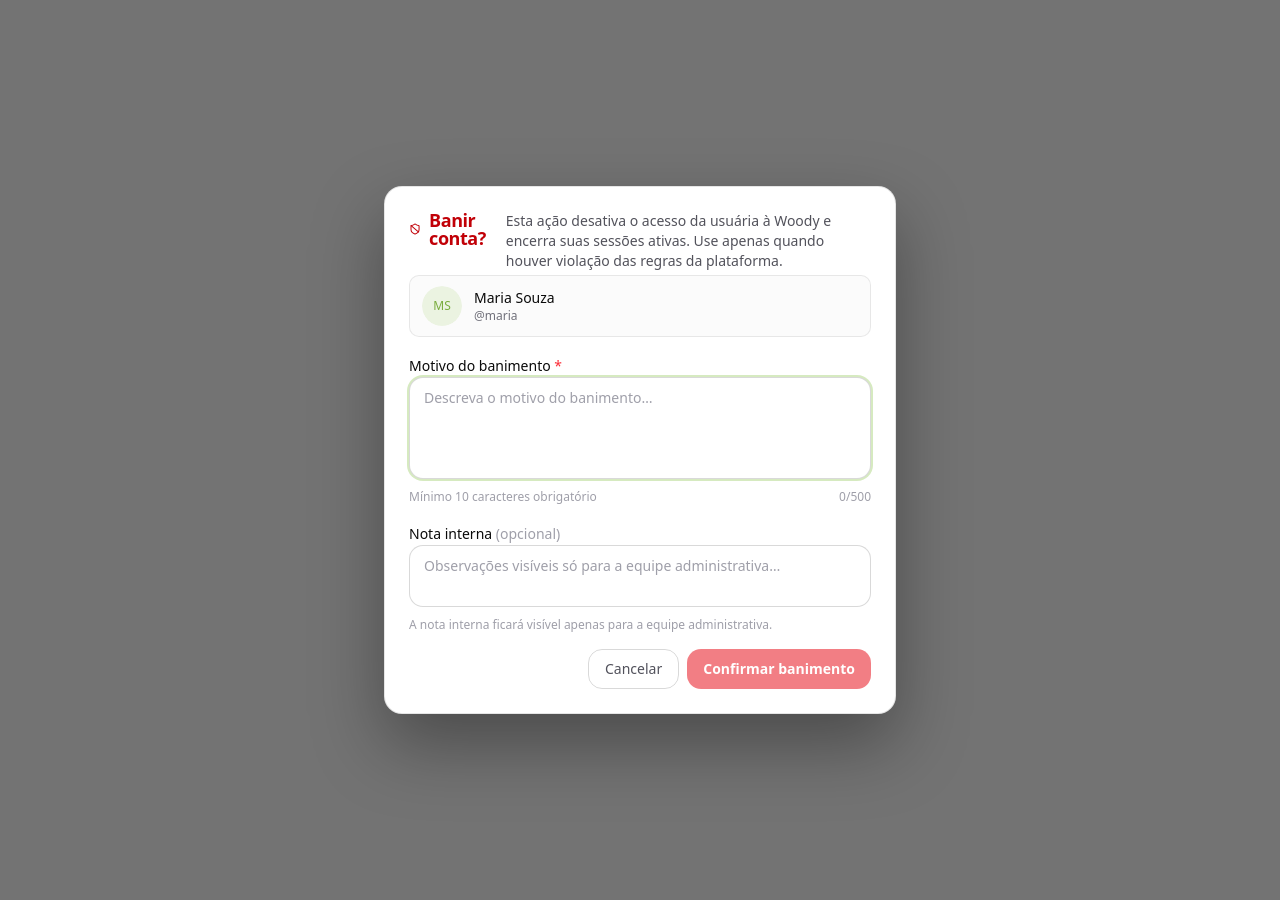
it: BanReportAuthorDialog › mantém modal aberto e exibe erro em falha
The width and height of the screenshot is (1280, 900).
Type "Violação grave das regras" into the text box labelled "Motivo do banimento *" at (640, 428), box [409,377,871,479]
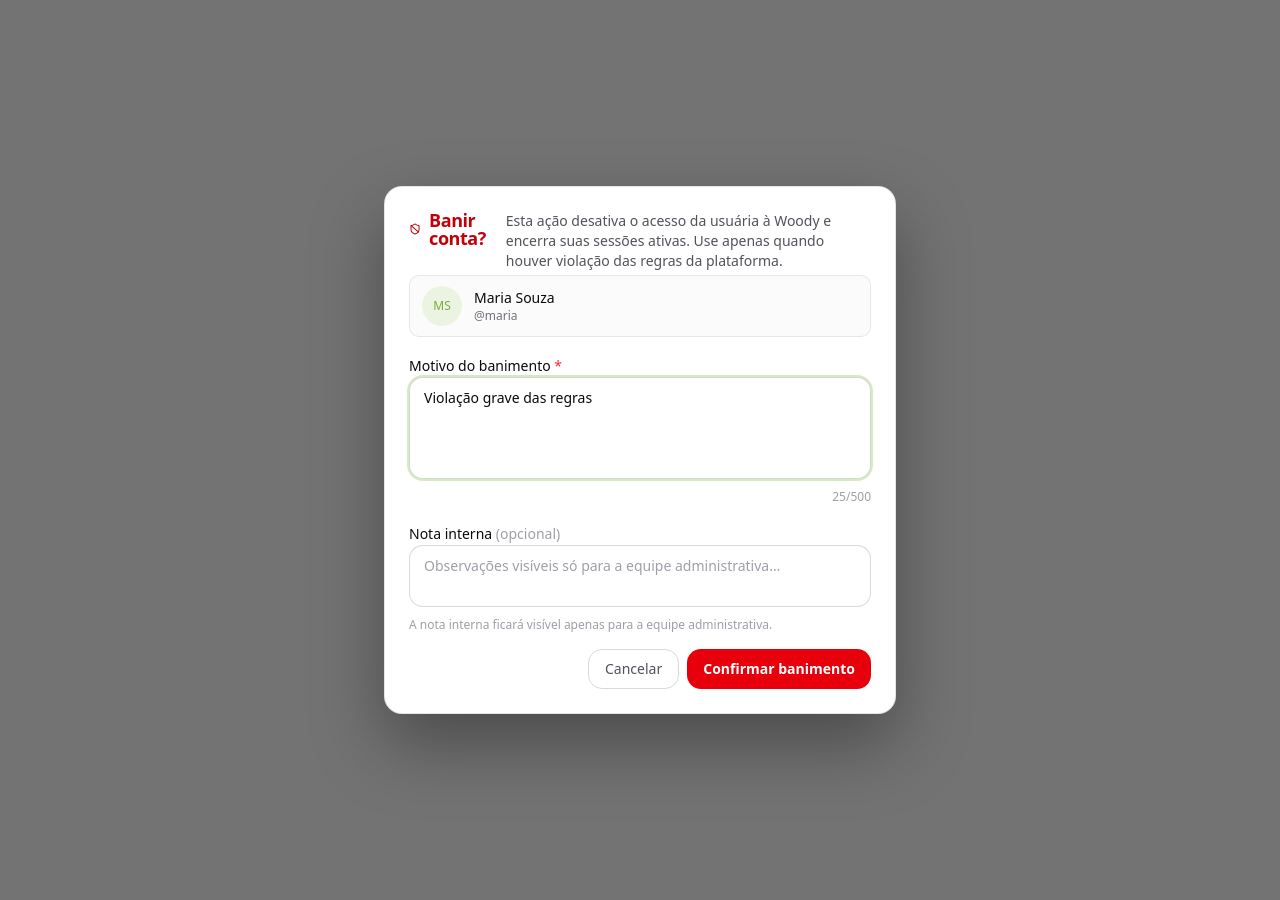
Click the button "Confirmar banimento" at (779, 669), box [687,649,871,689]
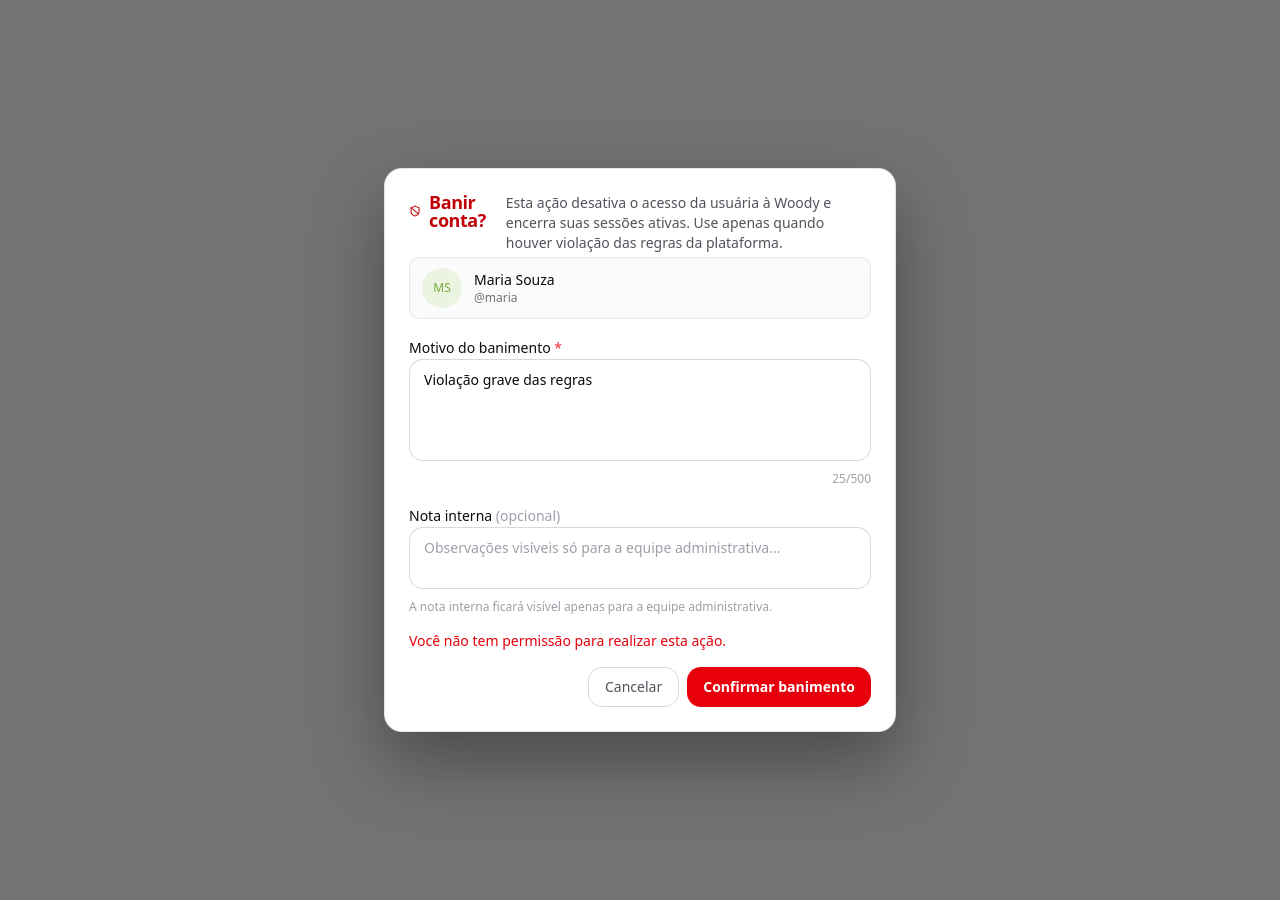
Expected: the text "Você não tem permissão para realizar esta ação." is shown, [409,631,726,650]
